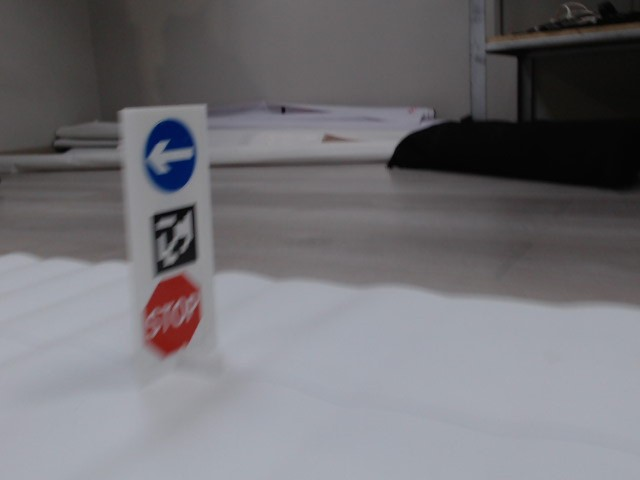Stop: (142, 274, 203, 355)
